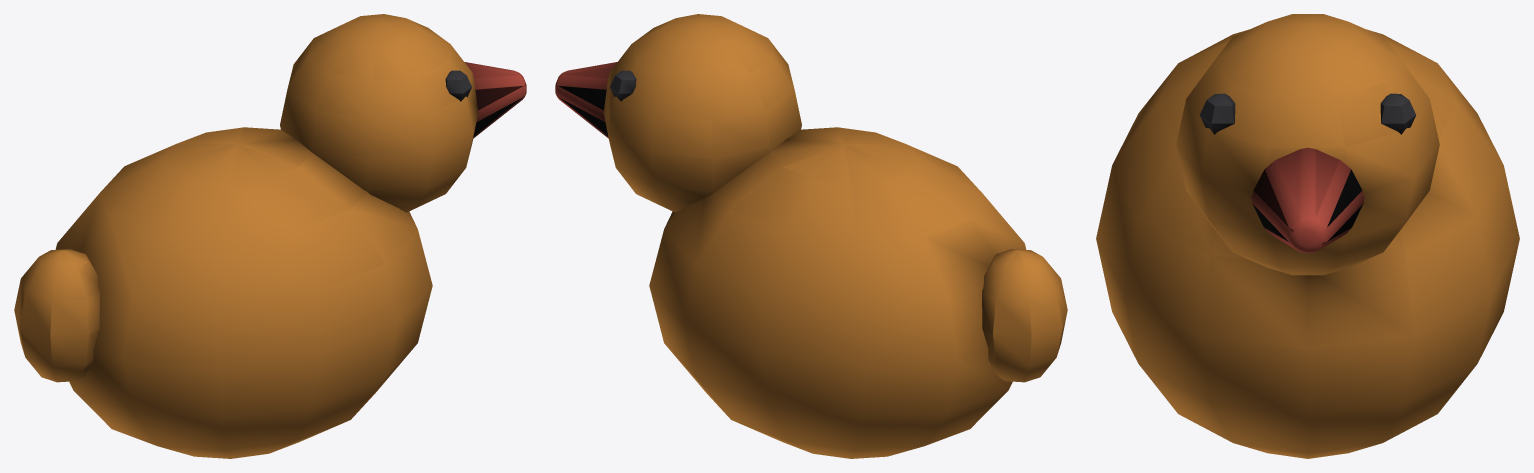
The model's file is bath_toy.glb.
3 renders of one model, left to right at view 1: azimuth 30°, elevation 25°; view 2: azimuth 150°, elevation 25°; view 3: azimuth 270°, elevation 25°, orthographic. The views are drawn at different scales.
Parts seen in each view (by area): view 1: bath_toy; view 2: bath_toy; view 3: bath_toy.
Part boxes in pixels (x1,y1,x2,y2): bath_toy: [14, 14, 526, 458]; bath_toy: [555, 14, 1067, 458]; bath_toy: [1096, 14, 1519, 458].
Size of the model in its own units: 0.159 by 0.116 by 0.09.
